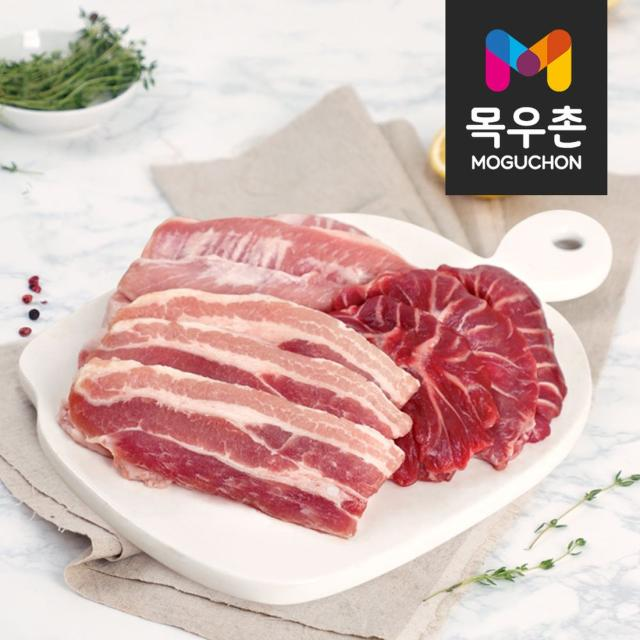pork: (49, 195, 591, 539)
